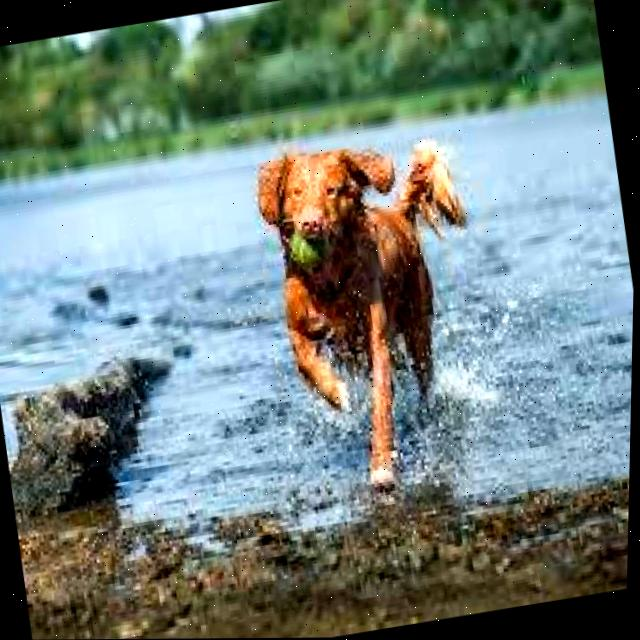dog: (230, 114, 512, 512)
